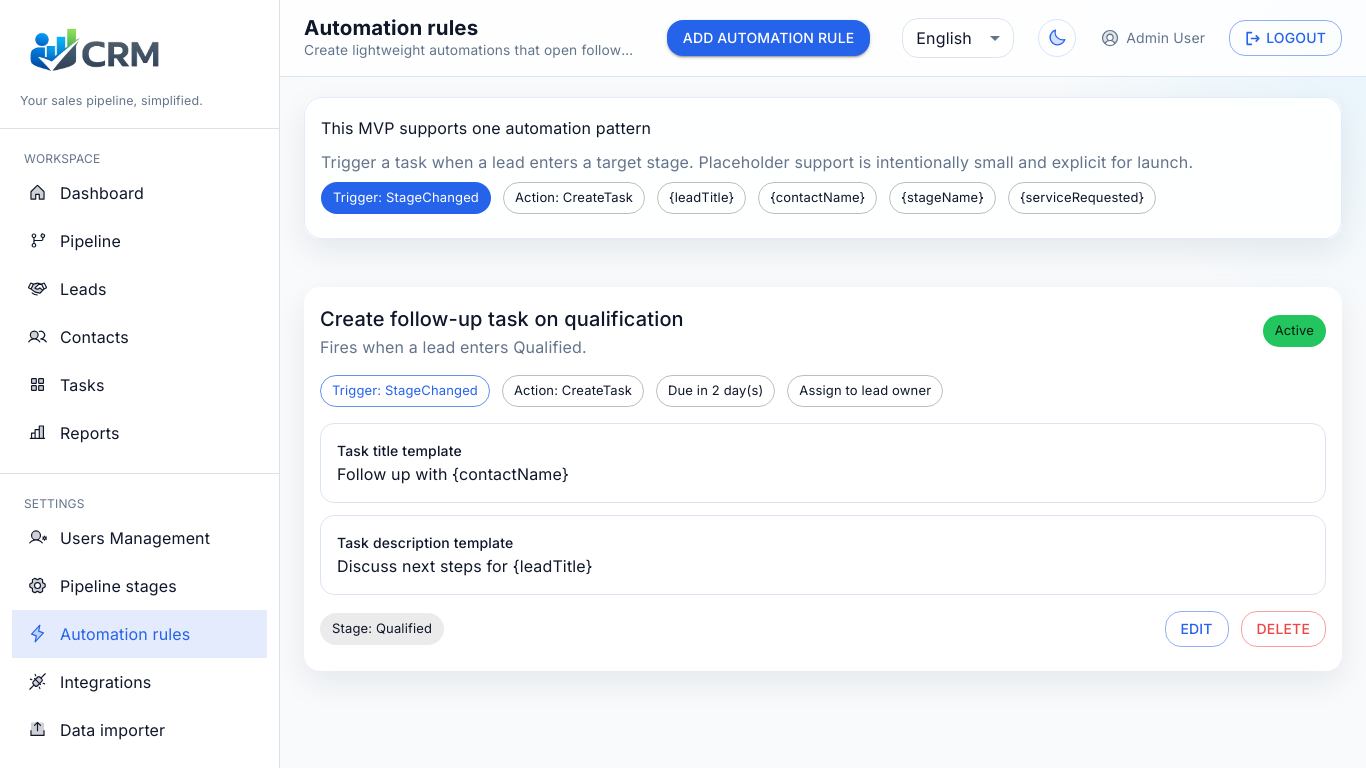
Test: Automation feature › edits an automation rule successfully
Check: the heading "Automation rules" is shown, box [304,15,478,40]
Click the button "Edit".
click(1197, 629)  # box [1164,611,1229,647]
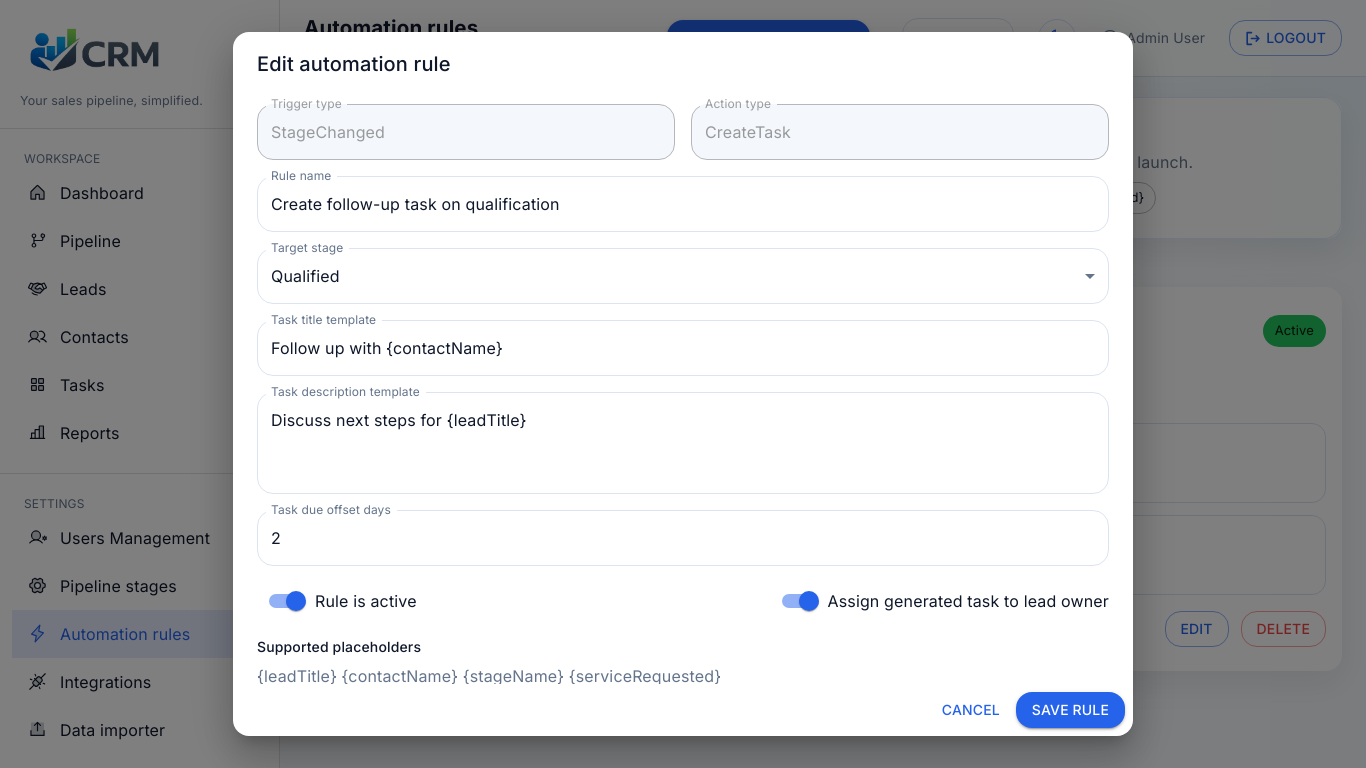
Replace the text in the field labelled "Rule name" with "Create proposal follow-up task" at x=683, y=204, box [257,176,1109,232]
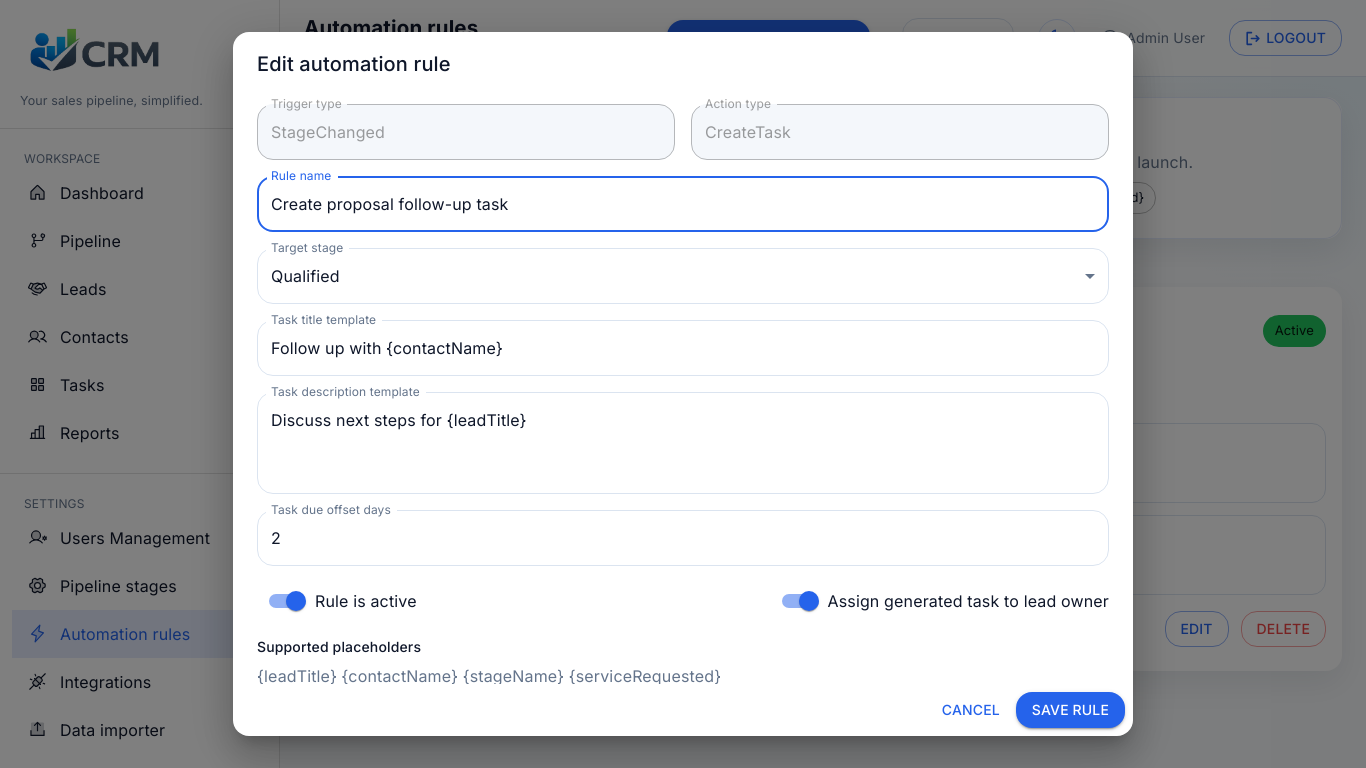
Click the button "Save rule".
click(1070, 710)  # box [1016,692,1125,728]
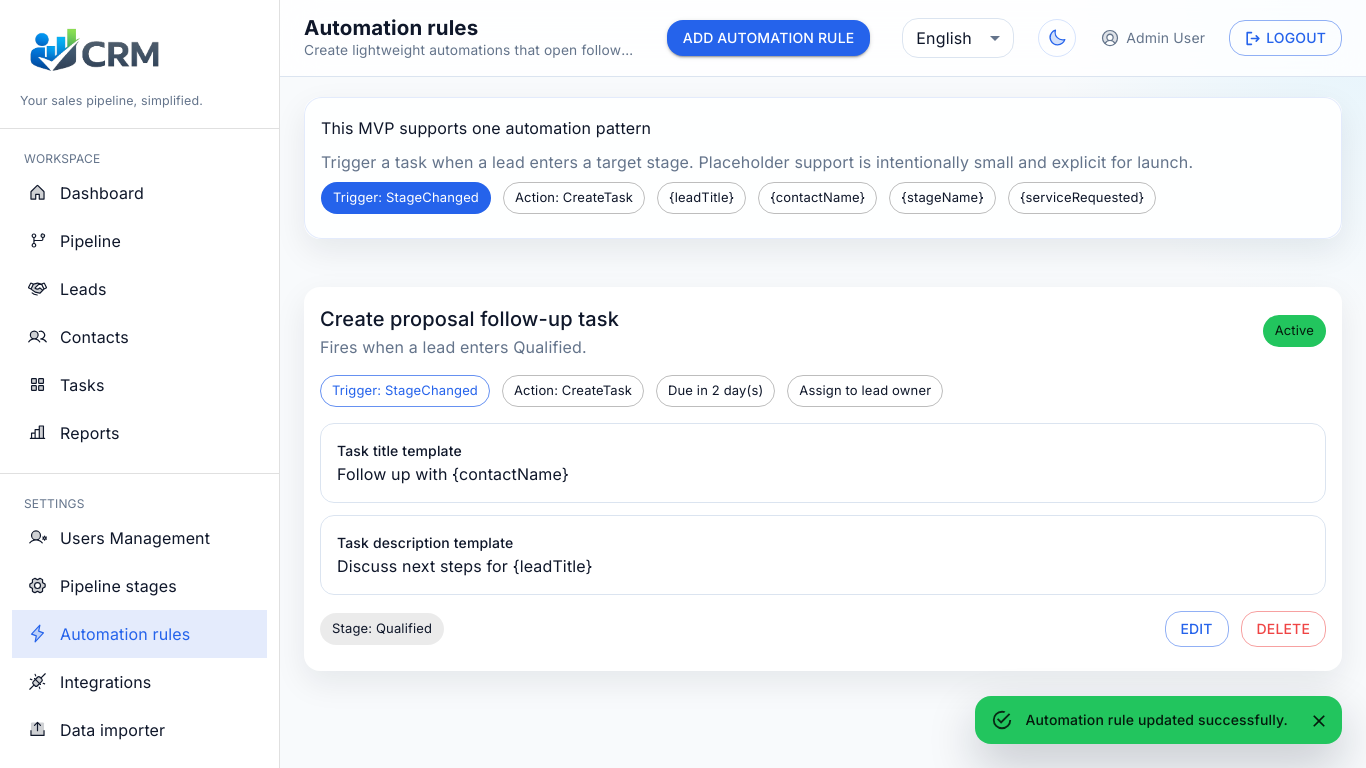
Check: the text "Automation rule updated successfully." is shown, box [1026,711,1288,728]
Check: the heading "Create proposal follow-up task" is shown, box [320,303,619,335]
